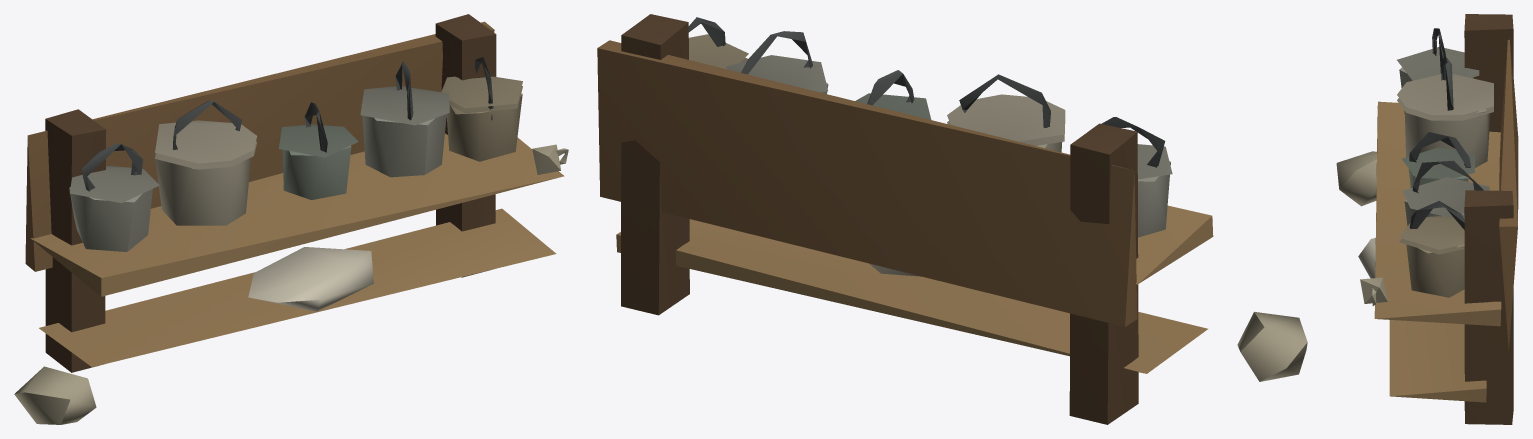
Rendered from lunch_shelf_a_lod2.glb.
The picture shows the model from 3 angles, left to right: view 1: azimuth 30°, elevation 25°; view 2: azimuth 150°, elevation 25°; view 3: azimuth 270°, elevation 25°; orthographic projection. The views are drawn at different scales.
Parts seen in each view (by area): view 1: Surface.001; view 2: Surface.001; view 3: Surface.001.
Boxes of the visible parts, bbox=[...] form: Surface.001: bbox=[14, 14, 568, 424]; Surface.001: bbox=[597, 14, 1307, 424]; Surface.001: bbox=[1336, 14, 1518, 424].
Size of the model in its own units: 2.93 by 1.27 by 0.9158.
